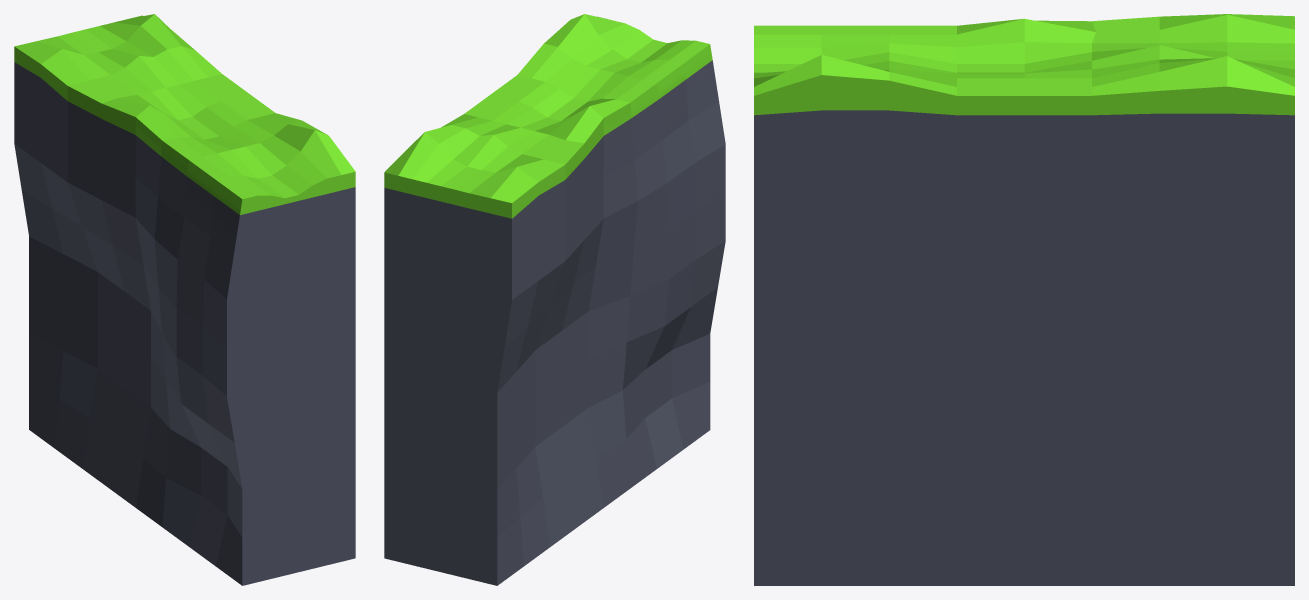
The model's file is WallBlockDAE.dae.
The picture shows the model from 3 angles, left to right: view 1: azimuth 30°, elevation 25°; view 2: azimuth 150°, elevation 25°; view 3: azimuth 270°, elevation 25°; orthographic projection. The views are drawn at different scales.
Parts seen in each view (by area): view 1: WallBlock1; view 2: WallBlock1; view 3: WallBlock1.
Part boxes in pixels (x1,y1,x2,y2): WallBlock1: (14,14,355,585); WallBlock1: (384,14,725,585); WallBlock1: (754,14,1294,585).
Size of the model in its own units: 126 by 386 by 362.
